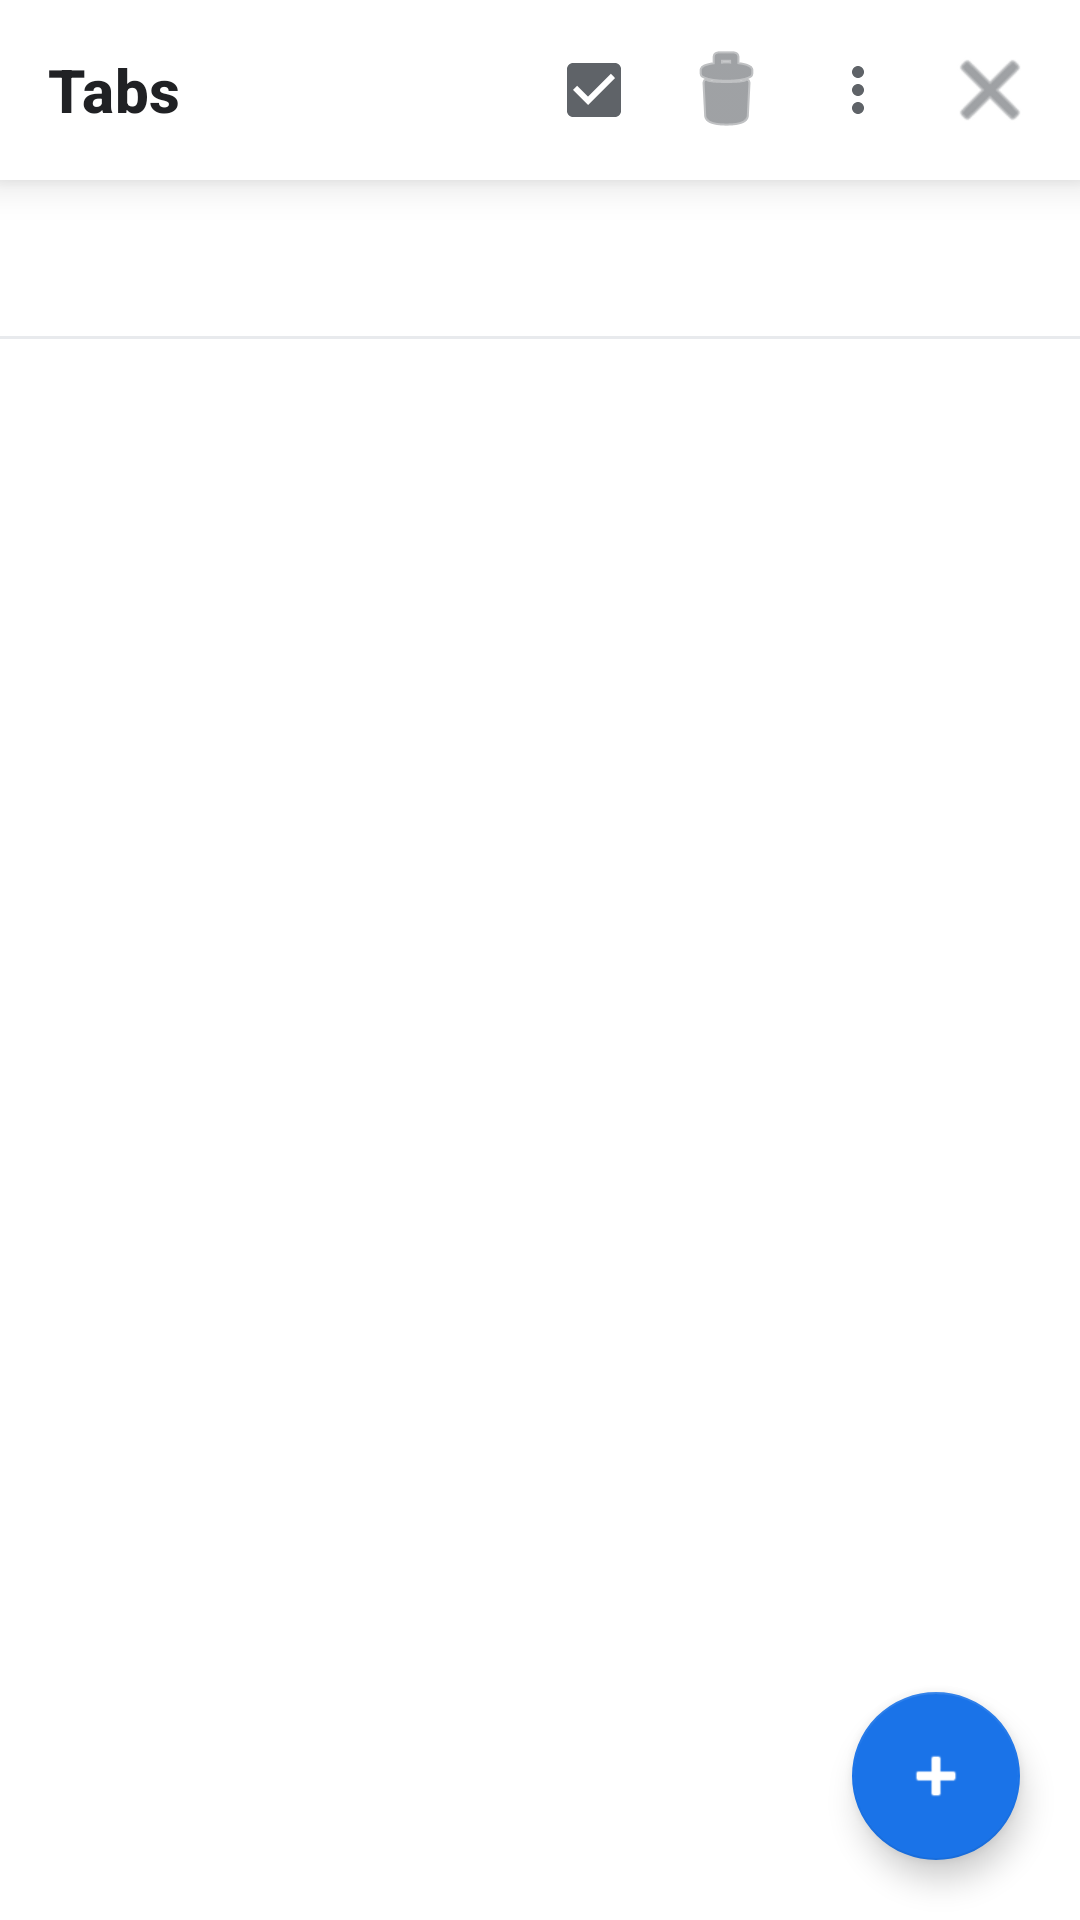

Where to tap for icons on this 1080px x 1920px app screen, as (x=x, y=y):
Close: (x=990, y=90)
Delete All: (x=726, y=88)
Menu: (x=858, y=90)
New Tab: (x=936, y=1776)
Select: (x=594, y=90)
